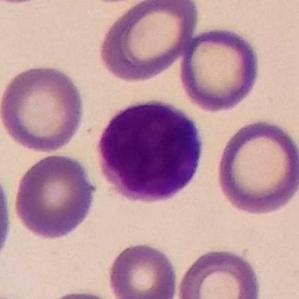Basophil: (91, 94, 209, 208)
Lymphocyte: (92, 93, 210, 208)
RBC: (95, 0, 202, 84), (213, 117, 299, 216), (11, 150, 100, 242), (0, 62, 87, 155), (177, 25, 263, 113), (174, 245, 264, 299), (106, 240, 180, 299)
